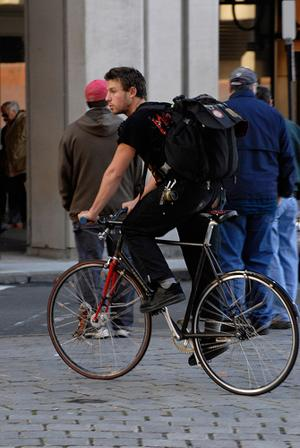person: (78, 65, 244, 368)
